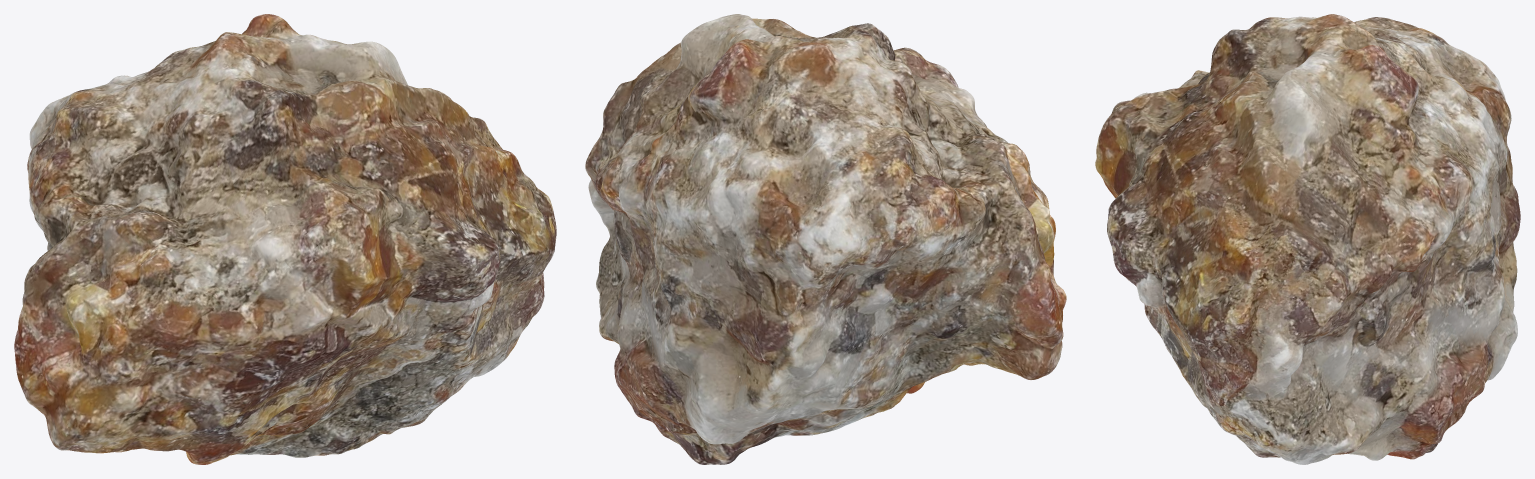
Rendered from esfalerita.glb.
3 renders of one model, left to right at view 1: azimuth 30°, elevation 25°; view 2: azimuth 150°, elevation 25°; view 3: azimuth 270°, elevation 25°, orthographic. The views are drawn at different scales.
Parts seen in each view (by area): view 1: Model; view 2: Model; view 3: Model.
Boxes of the visible parts, x1,y1,x2,y2 form: Model: [14, 14, 556, 464]; Model: [585, 14, 1066, 464]; Model: [1095, 14, 1520, 464].
Size of the model in its own units: 1 by 0.8079 by 0.7709.
4 materials, 4 textured.
